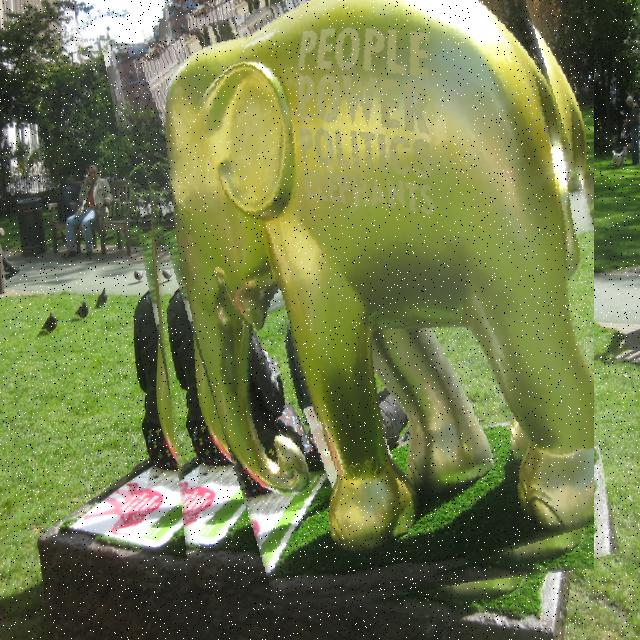elephant: (129, 0, 594, 613)
